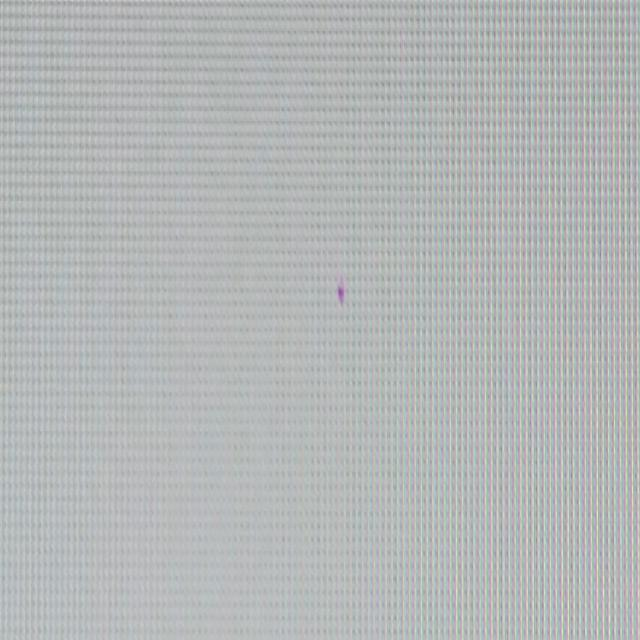Dead pixel: (337, 284, 345, 306)
